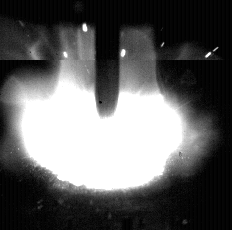arame: (95, 0, 121, 118)
poca: (19, 0, 184, 230)
